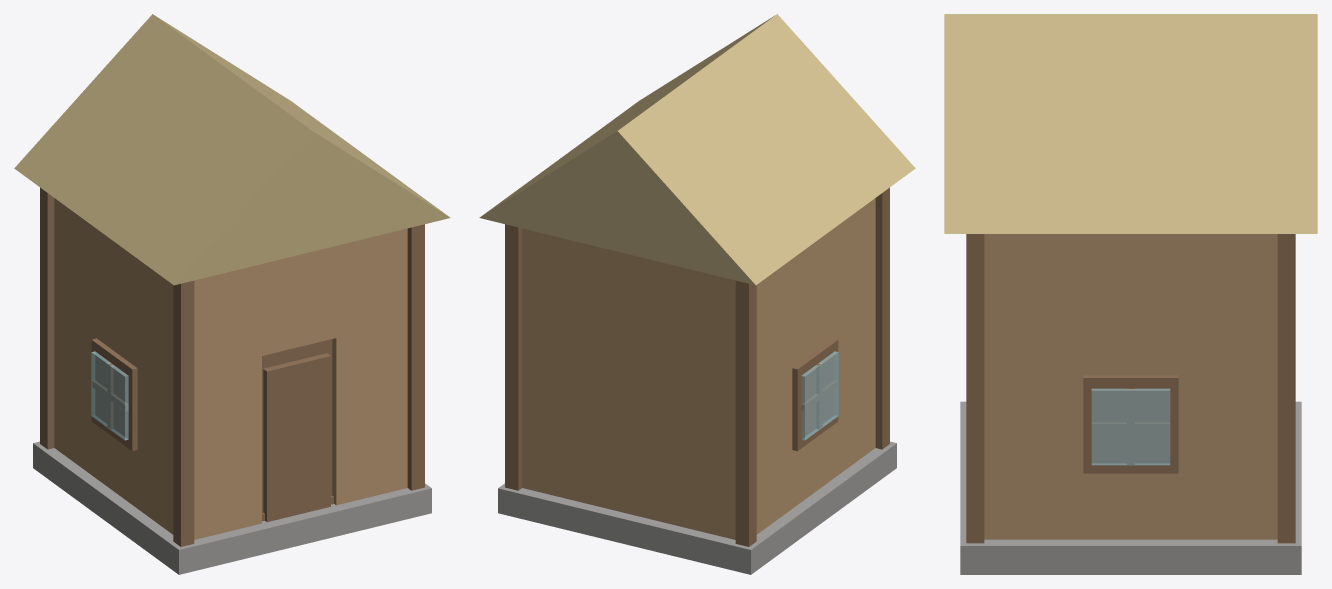
Rendered from BLD-watch-01.glb.
The picture shows the model from 3 angles, left to right: view 1: azimuth 30°, elevation 25°; view 2: azimuth 150°, elevation 25°; view 3: azimuth 270°, elevation 25°; orthographic projection. The views are drawn at different scales.
Parts seen in each view (by area): view 1: BLD-watch-01; view 2: BLD-watch-01; view 3: BLD-watch-01.
Boxes of the visible parts, x1=… form: BLD-watch-01: x1=14, y1=14, x2=450, y2=574; BLD-watch-01: x1=479, y1=14, x2=915, y2=574; BLD-watch-01: x1=944, y1=14, x2=1317, y2=574.
Size of the model in its own units: 3.72 by 5.37 by 3.72.
